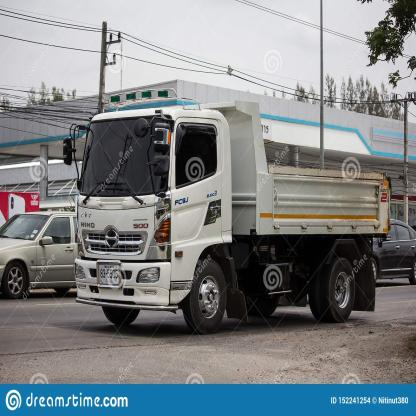dump_truck: (59, 88, 394, 337)
